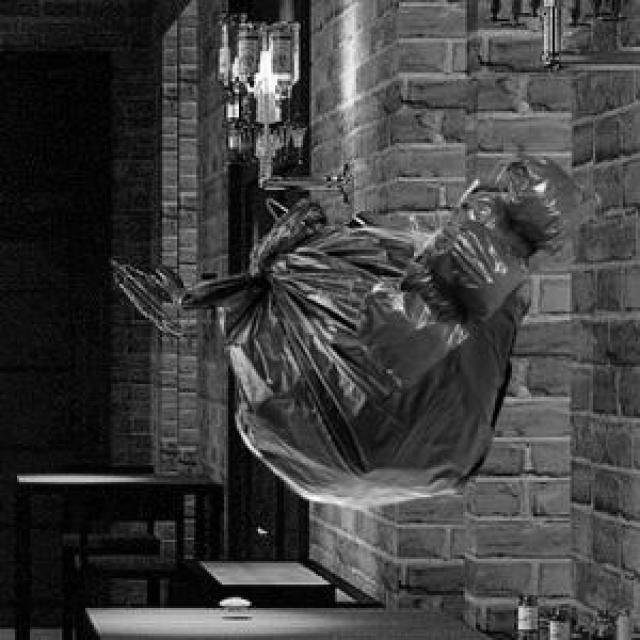miscellaneous trash: (166, 194, 527, 504), (356, 149, 597, 393)
